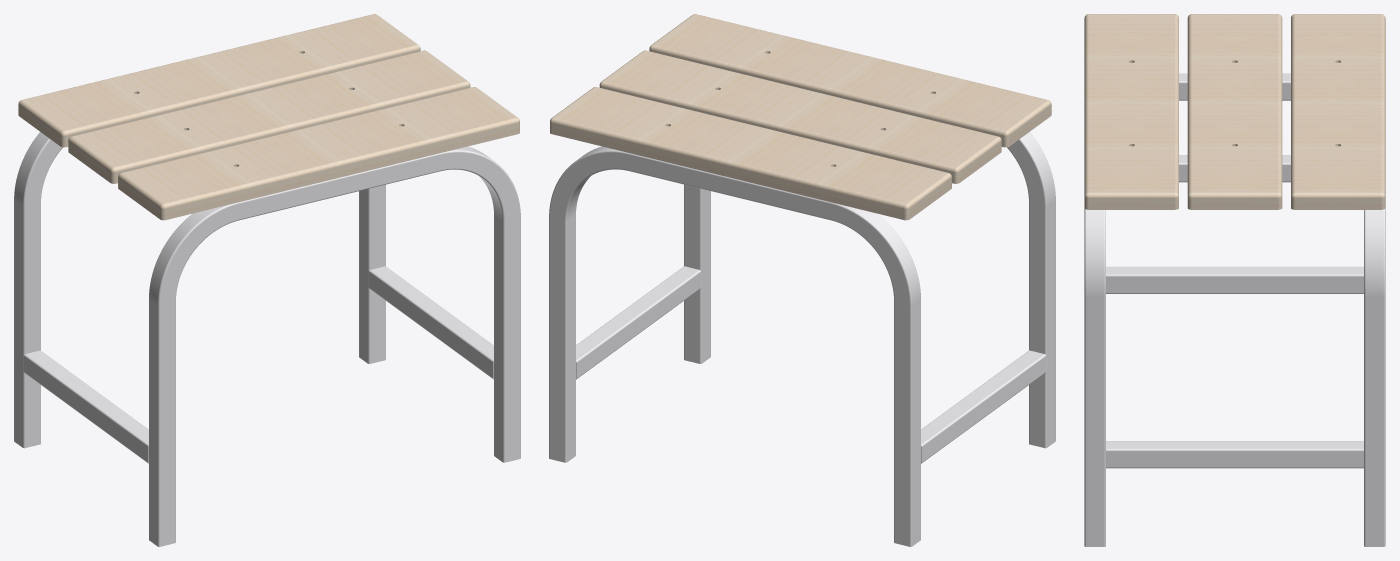
3 views of the same model, side by side, from view 1: azimuth 30°, elevation 25°; view 2: azimuth 150°, elevation 25°; view 3: azimuth 270°, elevation 25° (orthographic). The views are drawn at different scales.
Parts seen in each view (by area): view 1: СГ-1000.00.00.00.004 Доска.STEP-1 - Деталь, СГ-1000.00.00.00.004 Доска.STEP-3 - Деталь, СГ-1000.00.00.00.004 Доска.STEP-2 - Деталь, СГ-1000.00.00.00.002 Поперечина_По умолчанию_Как обработанны (×2), Труба 25х25 ТРУБА 25Х25Х1,5(1)[5][1] - Деталь, Труба 25х25 ТРУБА 25Х25Х1,5(1)[1][1] - Деталь, Труба 25х25 ТРУБА 25Х25Х1,5(1)11 - Деталь 2, Труба 25х25 ТРУБА 25Х25Х1,5(1)51 - Деталь 2, Труба 25х25 ТРУБА 25Х25Х1,5(1)[3][1] - Деталь, Труба 25х25 ТРУБА 25Х25Х1,5(1)[2][1] - Деталь, Труба 25х25 ТРУБА 25Х25Х1,5(1)[4][1] - Деталь, Труба 25х25 ТРУБА 25Х25Х1,5(1)21 - Деталь 2; view 2: СГ-1000.00.00.00.004 Доска.STEP-3 - Деталь, СГ-1000.00.00.00.004 Доска.STEP-1 - Деталь, СГ-1000.00.00.00.004 Доска.STEP-2 - Деталь, СГ-1000.00.00.00.002 Поперечина_По умолчанию_Как обработанны (×2), Труба 25х25 ТРУБА 25Х25Х1,5(1)51 - Деталь 2, Труба 25х25 ТРУБА 25Х25Х1,5(1)11 - Деталь 2, Труба 25х25 ТРУБА 25Х25Х1,5(1)[1][1] - Деталь, Труба 25х25 ТРУБА 25Х25Х1,5(1)[5][1] - Деталь, Труба 25х25 ТРУБА 25Х25Х1,5(1)31 - Деталь 2, Труба 25х25 ТРУБА 25Х25Х1,5(1)21 - Деталь 2, Труба 25х25 ТРУБА 25Х25Х1,5(1)41 - Деталь 2, Труба 25х25 ТРУБА 25Х25Х1,5(1)[2][1] - Деталь; view 3: СГ-1000.00.00.00.004 Доска.STEP-2 - Деталь, СГ-1000.00.00.00.004 Доска.STEP-1 - Деталь, СГ-1000.00.00.00.004 Доска.STEP-3 - Деталь, СГ-1000.00.00.00.002 Поперечина_По умолчанию_Как обработанны (×2), Труба 25х25 ТРУБА 25Х25Х1,5(1)[5][1] - Деталь, Труба 25х25 ТРУБА 25Х25Х1,5(1)51 - Деталь 2, Труба 25х25 ТРУБА 25Х25Х1,5(1)[4][1] - Деталь, Труба 25х25 ТРУБА 25Х25Х1,5(1)41 - Деталь 2, СГ-1000.00.00.00.003 Поперечина_По умолчанию_Как обработанны (×2).
Boxes of the visible parts, bbox=[...] form: СГ-1000.00.00.00.004 Доска.STEP-1 - Деталь: bbox=[118, 87, 519, 220]; СГ-1000.00.00.00.004 Доска.STEP-3 - Деталь: bbox=[18, 14, 420, 147]; СГ-1000.00.00.00.004 Доска.STEP-2 - Деталь: bbox=[68, 50, 470, 183]; СГ-1000.00.00.00.002 Поперечина_По умолчанию_Как обработанны (×2): bbox=[23, 266, 493, 463]; Труба 25х25 ТРУБА 25Х25Х1,5(1)[5][1] - Деталь: bbox=[494, 215, 520, 462]; Труба 25х25 ТРУБА 25Х25Х1,5(1)[1][1] - Деталь: bbox=[149, 300, 175, 546]; Труба 25х25 ТРУБА 25Х25Х1,5(1)11 - Деталь 2: bbox=[14, 201, 40, 448]; Труба 25х25 ТРУБА 25Х25Х1,5(1)51 - Деталь 2: bbox=[359, 184, 385, 363]; Труба 25х25 ТРУБА 25Х25Х1,5(1)[3][1] - Деталь: bbox=[239, 153, 440, 220]; Труба 25х25 ТРУБА 25Х25Х1,5(1)[2][1] - Деталь: bbox=[149, 202, 239, 306]; Труба 25х25 ТРУБА 25Х25Х1,5(1)[4][1] - Деталь: bbox=[440, 146, 520, 221]; Труба 25х25 ТРУБА 25Х25Х1,5(1)21 - Деталь 2: bbox=[14, 132, 62, 207]; СГ-1000.00.00.00.004 Доска.STEP-3 - Деталь: bbox=[550, 87, 951, 220]; СГ-1000.00.00.00.004 Доска.STEP-1 - Деталь: bbox=[649, 14, 1051, 147]; СГ-1000.00.00.00.004 Доска.STEP-2 - Деталь: bbox=[599, 50, 1001, 183]; СГ-1000.00.00.00.002 Поперечина_По умолчанию_Как обработанны (×2): bbox=[576, 266, 1046, 463]; Труба 25х25 ТРУБА 25Х25Х1,5(1)51 - Деталь 2: bbox=[549, 215, 575, 462]; Труба 25х25 ТРУБА 25Х25Х1,5(1)11 - Деталь 2: bbox=[894, 300, 920, 546]; Труба 25х25 ТРУБА 25Х25Х1,5(1)[1][1] - Деталь: bbox=[1029, 201, 1055, 448]; Труба 25х25 ТРУБА 25Х25Х1,5(1)[5][1] - Деталь: bbox=[684, 184, 710, 363]; Труба 25х25 ТРУБА 25Х25Х1,5(1)31 - Деталь 2: bbox=[629, 153, 830, 220]; Труба 25х25 ТРУБА 25Х25Х1,5(1)21 - Деталь 2: bbox=[830, 202, 920, 306]; Труба 25х25 ТРУБА 25Х25Х1,5(1)41 - Деталь 2: bbox=[549, 146, 629, 221]; Труба 25х25 ТРУБА 25Х25Х1,5(1)[2][1] - Деталь: bbox=[1007, 132, 1055, 207]; СГ-1000.00.00.00.004 Доска.STEP-2 - Деталь: bbox=[1187, 14, 1282, 209]; СГ-1000.00.00.00.004 Доска.STEP-1 - Деталь: bbox=[1084, 14, 1178, 209]; СГ-1000.00.00.00.004 Доска.STEP-3 - Деталь: bbox=[1291, 14, 1385, 209]; СГ-1000.00.00.00.002 Поперечина_По умолчанию_Как обработанны (×2): bbox=[1106, 266, 1363, 468]; Труба 25х25 ТРУБА 25Х25Х1,5(1)[5][1] - Деталь: bbox=[1084, 297, 1105, 546]; Труба 25х25 ТРУБА 25Х25Х1,5(1)51 - Деталь 2: bbox=[1364, 297, 1385, 546]; Труба 25х25 ТРУБА 25Х25Х1,5(1)[4][1] - Деталь: bbox=[1084, 208, 1105, 297]; Труба 25х25 ТРУБА 25Х25Х1,5(1)41 - Деталь 2: bbox=[1364, 208, 1385, 297]; СГ-1000.00.00.00.003 Поперечина_По умолчанию_Как обработанны (×2): bbox=[1179, 73, 1290, 182].
Size of the model in its own units: 0.505 by 0.4525 by 0.35.
Materials: 17 (3 with a texture image).
